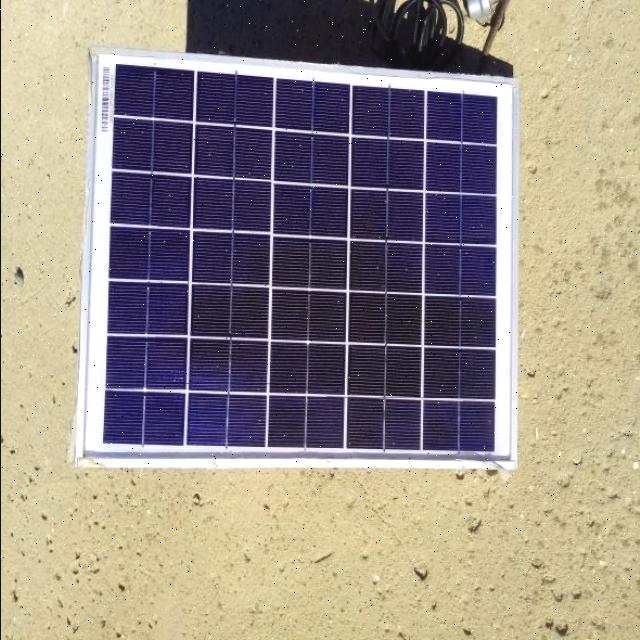Normal Solar Panel: (78, 48, 515, 466)
